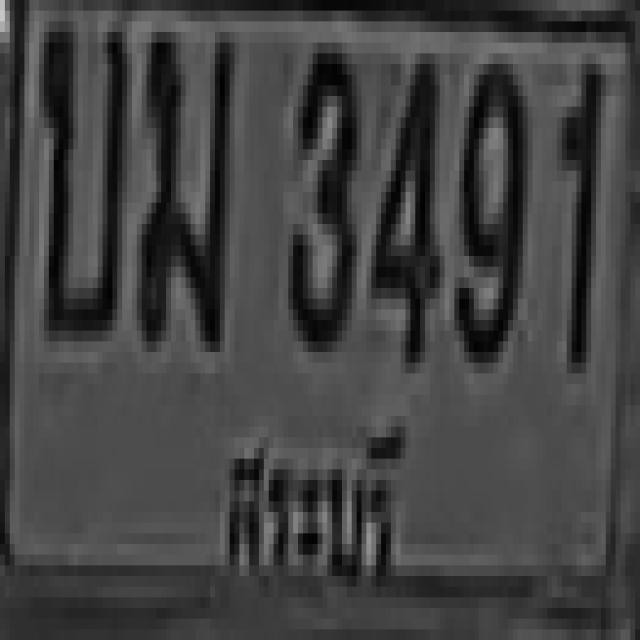1: (560, 53, 598, 363)
3: (283, 32, 357, 341)
35BorBaiMai: (36, 11, 125, 330)
4: (366, 48, 435, 357)
42MorMa: (134, 21, 232, 342)
9: (452, 53, 525, 352)
SaraBuri: (212, 410, 413, 591)
